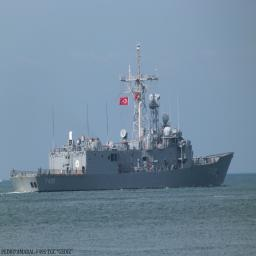Fragata: (8, 39, 236, 196)
